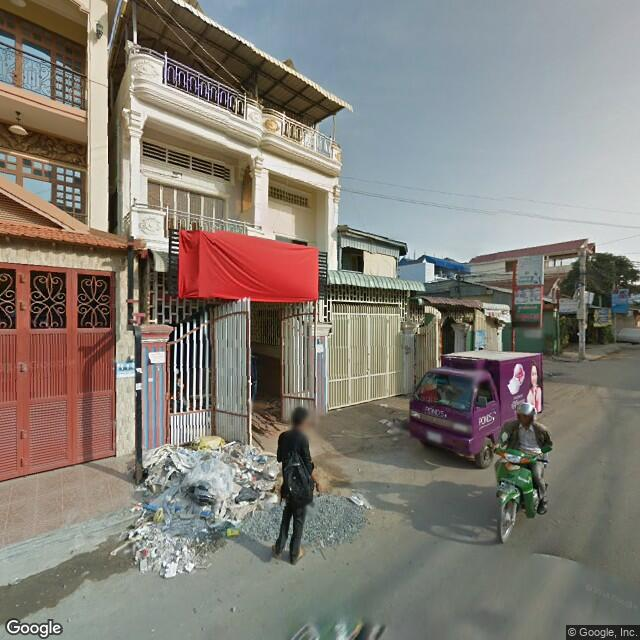litter: (186, 429, 234, 456), (199, 481, 227, 517), (380, 409, 406, 438), (147, 504, 176, 526), (348, 489, 374, 510), (157, 559, 180, 581)
